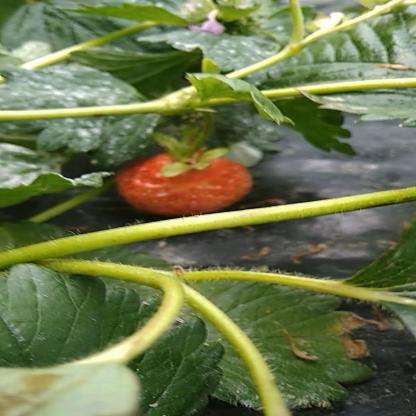ripe: (117, 153, 263, 217)
